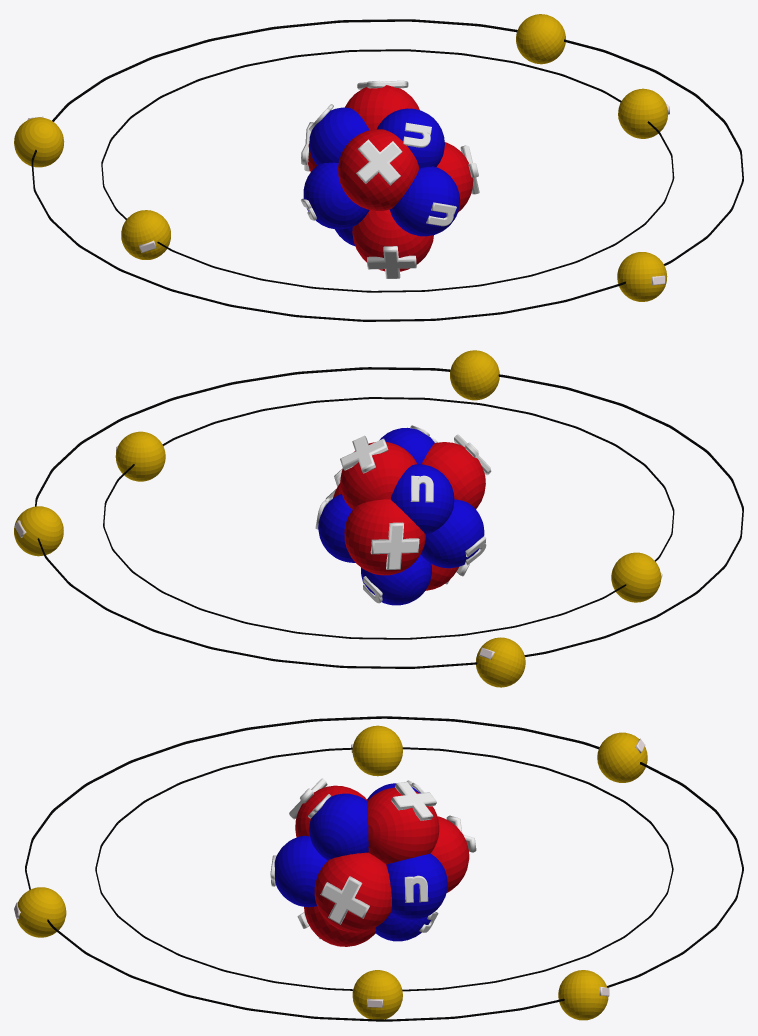
3 renders of one model, top to bottom at view 1: azimuth 30°, elevation 25°; view 2: azimuth 150°, elevation 25°; view 3: azimuth 270°, elevation 25°, orthographic.
Parts seen in each view (by area): view 1: Circle.001, Sphere.014, Circle, Sphere.012, Sphere.004, Sphere.011, Sphere.015, Sphere.013, Sphere.010, Sphere.003, Sphere.008, Sphere.006 (+6 smaller); view 2: Circle.001, Sphere.005, Circle, Sphere.007, Sphere.004, Sphere.015, Sphere.014, Sphere.006, Sphere.002, Sphere.003, Sphere.009, Sphere.010 (+5 smaller); view 3: Circle.001, Sphere, Sphere.007, Sphere.008, Circle, Sphere.001, Sphere.012, Sphere.002, Sphere.006, Sphere.013, Sphere.010, Sphere.003 (+7 smaller).
Part boxes in pixels (<box>): Circle.001: <box>31,19,743,321</box>; Sphere.014: <box>338,129,419,210</box>; Circle: <box>101,49,674,292</box>; Sphere.012: <box>389,166,459,236</box>; Sphere.004: <box>303,162,369,229</box>; Sphere.011: <box>352,209,433,271</box>; Sphere.015: <box>309,107,369,165</box>; Sphere.013: <box>516,14,565,64</box>; Sphere.010: <box>14,117,64,167</box>; Sphere.003: <box>618,88,667,138</box>; Sphere.008: <box>377,108,444,168</box>; Sphere.006: <box>617,252,667,301</box>; Circle.001: <box>35,367,743,668</box>; Sphere.005: <box>344,499,425,575</box>; Circle: <box>103,397,674,639</box>; Sphere.007: <box>340,442,416,509</box>; Sphere.004: <box>421,499,484,568</box>; Sphere.015: <box>391,464,454,534</box>; Sphere.014: <box>422,442,485,508</box>; Sphere.006: <box>450,350,499,400</box>; Sphere.002: <box>611,552,661,602</box>; Sphere.003: <box>115,431,165,481</box>; Sphere.009: <box>361,554,431,605</box>; Sphere.010: <box>476,637,525,687</box>; Circle.001: <box>25,716,743,1021</box>; Sphere: <box>314,852,391,932</box>; Sphere.007: <box>367,787,439,864</box>; Sphere.008: <box>309,793,368,860</box>; Circle: <box>95,747,673,991</box>; Sphere.001: <box>386,853,447,919</box>; Sphere.012: <box>274,835,327,907</box>; Sphere.002: <box>352,725,402,776</box>; Sphere.006: <box>16,887,66,937</box>; Sphere.013: <box>558,970,608,1020</box>; Sphere.010: <box>597,732,647,782</box>; Sphere.003: <box>352,970,402,1019</box>.
Bounding box in the file's own units: 71.62 × 18.27 × 72.7.
